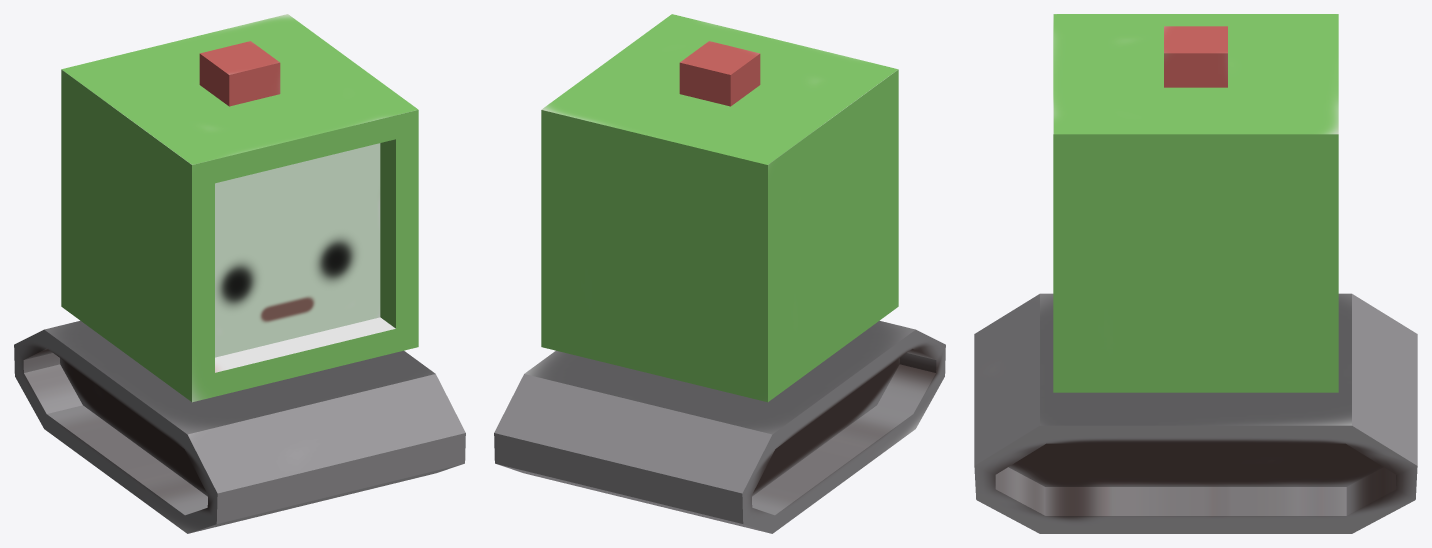
Rendered from Robot.gltf.
3 views of the same model, side by side, from view 1: azimuth 30°, elevation 25°; view 2: azimuth 150°, elevation 25°; view 3: azimuth 270°, elevation 25° (orthographic). The views are drawn at different scales.
Visible parts, largest first — view 1: Cube; view 2: Cube; view 3: Cube.
Part boxes in pixels (x1,y1,x2,y2): Cube: (14,14,465,533); Cube: (494,14,945,533); Cube: (974,14,1417,533).
Size of the model in its own units: 2 by 3.03 by 2.84.
Materials: 1 (1 with a texture image).
